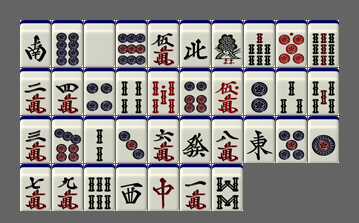0m: (212, 68, 243, 115)
0p: (276, 20, 307, 67)
0s: (148, 68, 179, 115)
1m: (180, 164, 211, 211)
1p: (308, 116, 339, 163)
1s: (212, 20, 243, 67)
1z: (244, 116, 275, 163)
2m: (20, 68, 51, 115)
2p: (244, 68, 275, 115)
2s: (84, 116, 115, 163)
2z: (20, 20, 51, 67)
3m: (20, 116, 51, 163)
3p: (116, 116, 147, 163)
3s: (276, 68, 307, 115)
3z: (116, 164, 147, 211)
4m: (52, 68, 83, 115)
4p: (84, 68, 115, 115)
4s: (116, 68, 147, 115)
4z: (180, 20, 211, 67)
5m: (148, 20, 179, 67)
5p: (276, 116, 307, 163)
5s: (308, 68, 339, 115)
5z: (84, 20, 115, 67)
6m: (148, 116, 179, 163)
6p: (180, 68, 211, 115)
6s: (84, 164, 115, 211)
6z: (180, 116, 211, 163)
7m: (20, 164, 51, 211)
7p: (52, 116, 83, 163)
7s: (244, 20, 275, 67)
7z: (148, 164, 179, 211)
8m: (212, 116, 243, 163)
8p: (52, 20, 83, 67)
8s: (212, 164, 243, 211)
9m: (52, 164, 83, 211)
9p: (116, 20, 147, 67)
9s: (308, 20, 339, 67)
